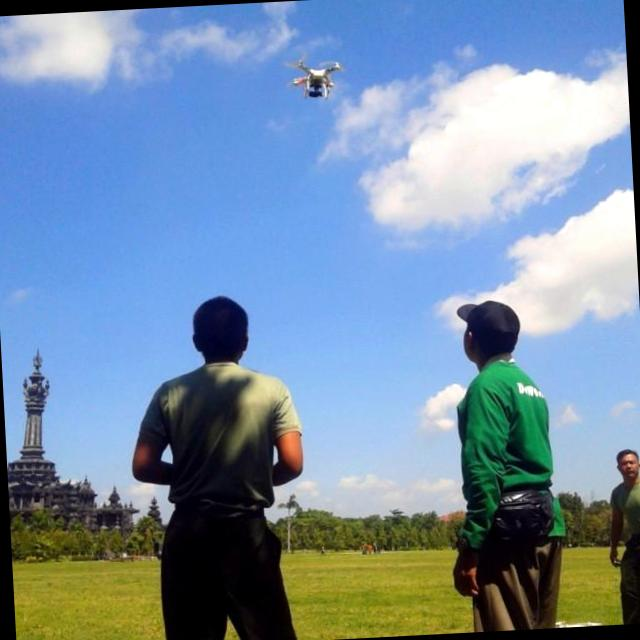drone: (288, 51, 350, 102)
